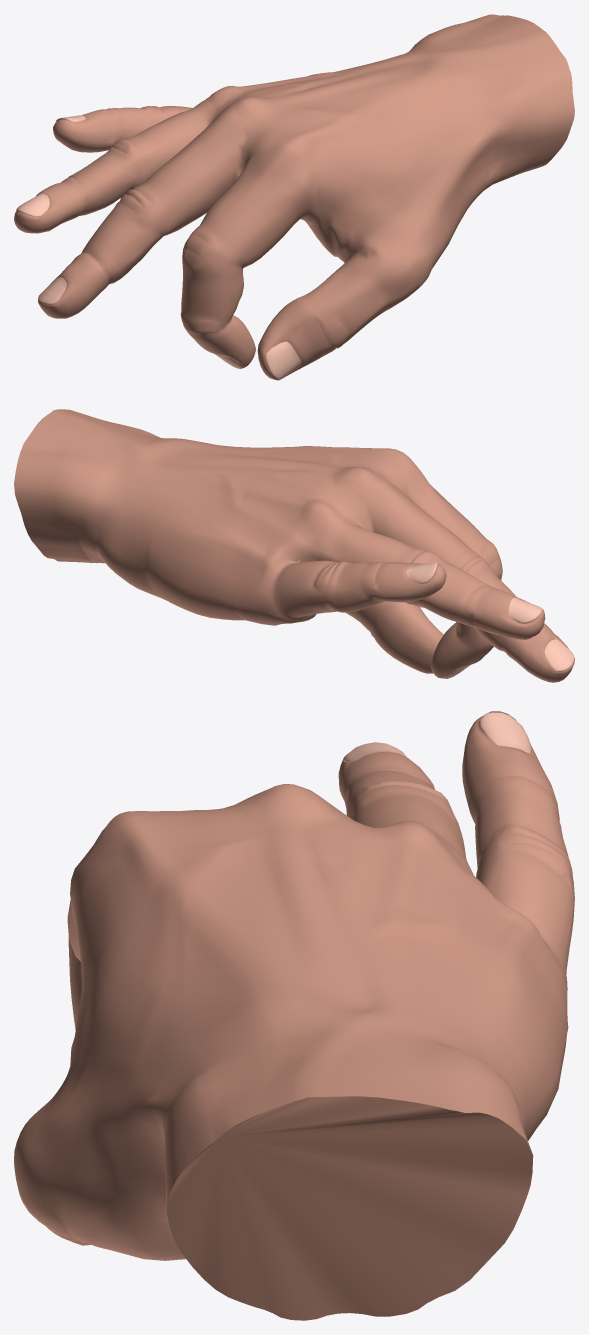
The model's file is hand_13.obj.
3 renders of one model, top to bottom at view 1: azimuth 30°, elevation 25°; view 2: azimuth 150°, elevation 25°; view 3: azimuth 270°, elevation 25°, orthographic. The views are drawn at different scales.
Parts seen in each view (by area): view 1: Figure_2; view 2: Figure_2; view 3: Figure_2.
Part boxes in pixels (box(x1,y1,x2,y2)): Figure_2: box(14, 14, 574, 380); Figure_2: box(14, 409, 574, 682); Figure_2: box(14, 711, 574, 1320).
Bounding box in the file's own units: 0.8602 × 0.3773 × 0.4138.
